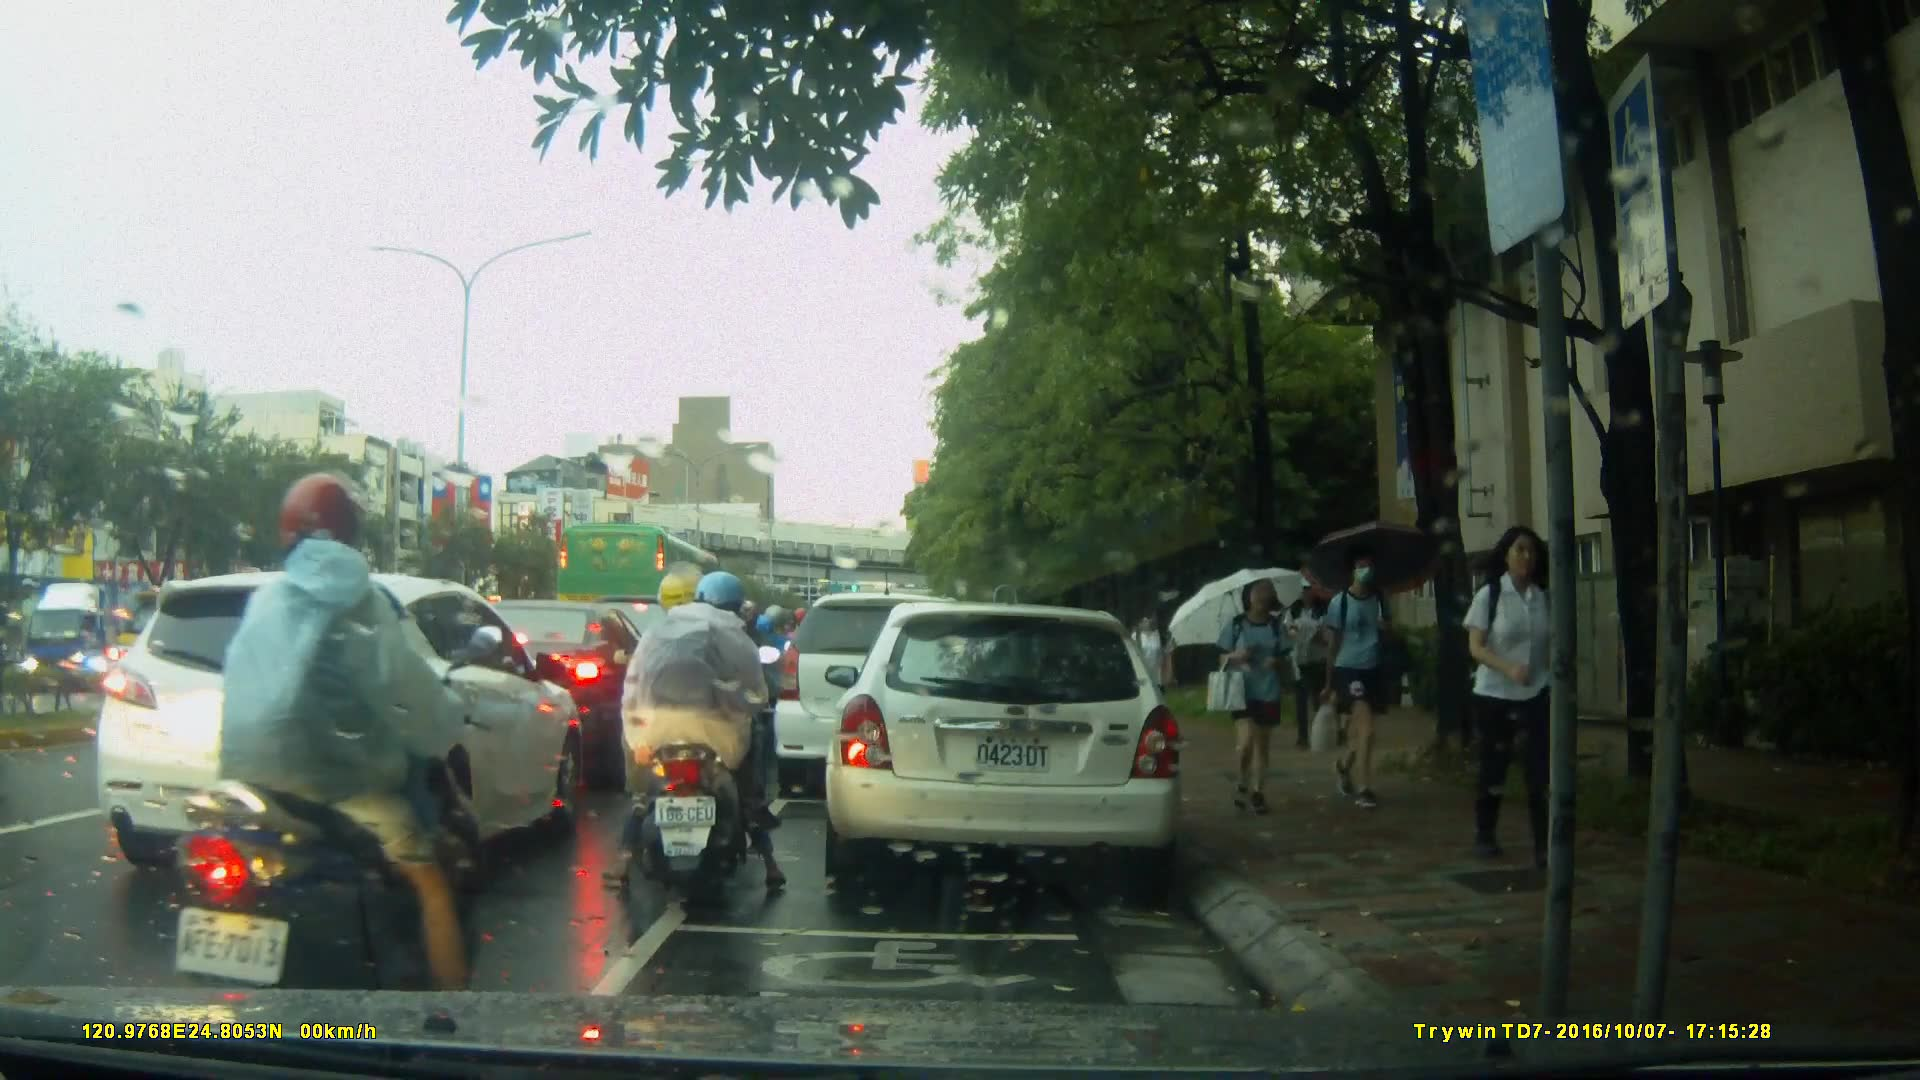pedestrian: (1451, 513, 1575, 875), (1308, 544, 1409, 816), (1209, 571, 1299, 824), (1131, 602, 1173, 746)
rider: (149, 471, 516, 1010), (598, 566, 780, 908), (655, 585, 761, 820)
vehicle: (93, 569, 587, 883), (822, 604, 1186, 883), (774, 595, 995, 802), (554, 519, 739, 666), (20, 576, 199, 697)
